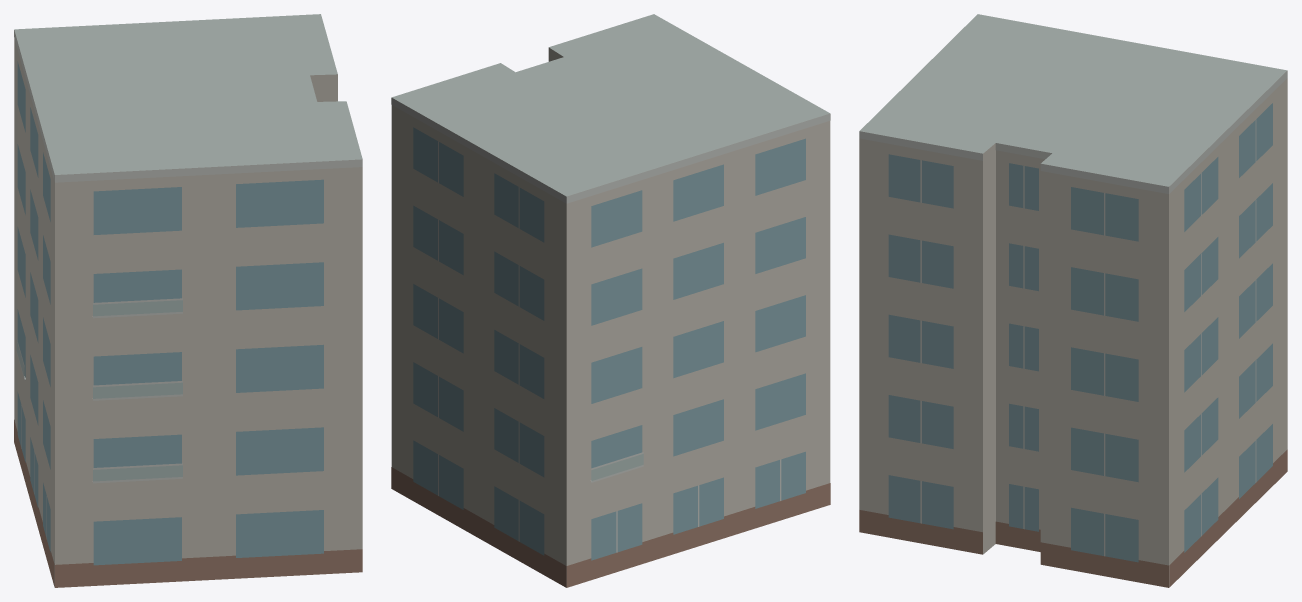
File: survey-upis-33046711.glb
3 renders of one model, left to right at view 1: azimuth 30°, elevation 25°; view 2: azimuth 150°, elevation 25°; view 3: azimuth 270°, elevation 25°, orthographic. The views are drawn at different scales.
Parts seen in each view (by area): view 1: survey-upis-33046711.tmp; view 2: survey-upis-33046711.tmp; view 3: survey-upis-33046711.tmp.
Part boxes in pixels (box(x1,y1,x2,y2)): survey-upis-33046711.tmp: box(14, 14, 362, 587); survey-upis-33046711.tmp: box(391, 14, 830, 587); survey-upis-33046711.tmp: box(859, 14, 1287, 587).
Size of the model in its own units: 12.31 by 13.3 by 12.88.
